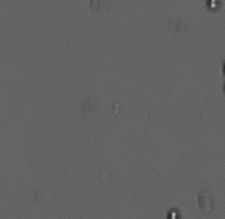Living Cell: (206, 1, 223, 10)
